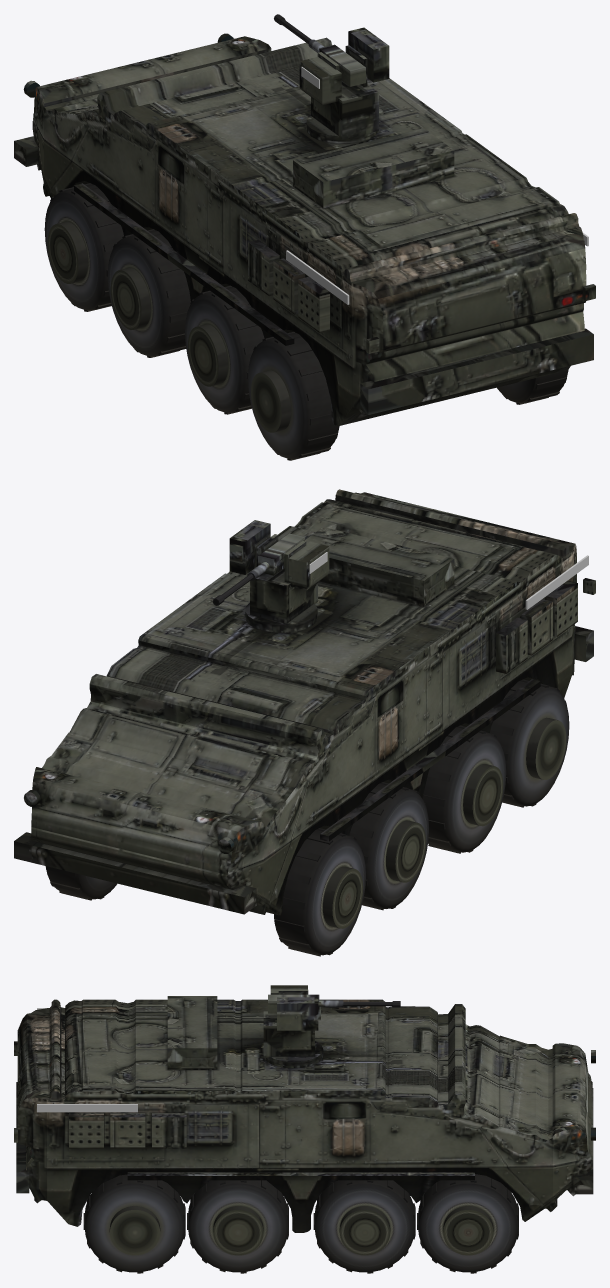
Rendered from stryker.glb.
The picture shows the model from 3 angles, top to bottom: view 1: azimuth 30°, elevation 25°; view 2: azimuth 150°, elevation 25°; view 3: azimuth 270°, elevation 25°; orthographic projection. The views are drawn at different scales.
Parts seen in each view (by area): view 1: Hull, WheelRL, WheelML, WheelFL, Turret, WheelM2L, WheelRR, Gun; view 2: Hull, WheelFL, WheelM2L, Turret, WheelRL, WheelML, WheelFR, Gun; view 3: Hull, WheelFR, WheelRR, WheelMR, WheelM2R, Turret, Gun.
Boxes of the visible parts, x1,y1,x2,y2 form: Hull: (14,33,595,425); WheelRL: (248,331,339,460); WheelML: (107,229,190,357); WheelFL: (44,183,123,311); Turret: (299,27,389,143); WheelM2L: (185,285,264,414); WheelRR: (497,370,568,404); Gun: (274,14,365,86); Hull: (14,489,595,915); WheelFL: (274,828,365,956); WheelM2L: (423,725,506,853); Turret: (229,520,329,632); WheelRL: (490,679,569,807); WheelML: (349,782,429,910); WheelFR: (45,866,116,900); Gun: (212,533,304,605); Hull: (14,996,595,1232); WheelFR: (417,1174,518,1273); WheelRR: (83,1174,185,1273); WheelMR: (313,1180,415,1273); WheelM2R: (187,1180,288,1273); Turret: (263,985,323,1068); Gun: (268,994,400,1013).
Bounding box in the file's own units: 3.26 × 3.27 × 7.03.
Materials: 2 (1 with a texture image).
